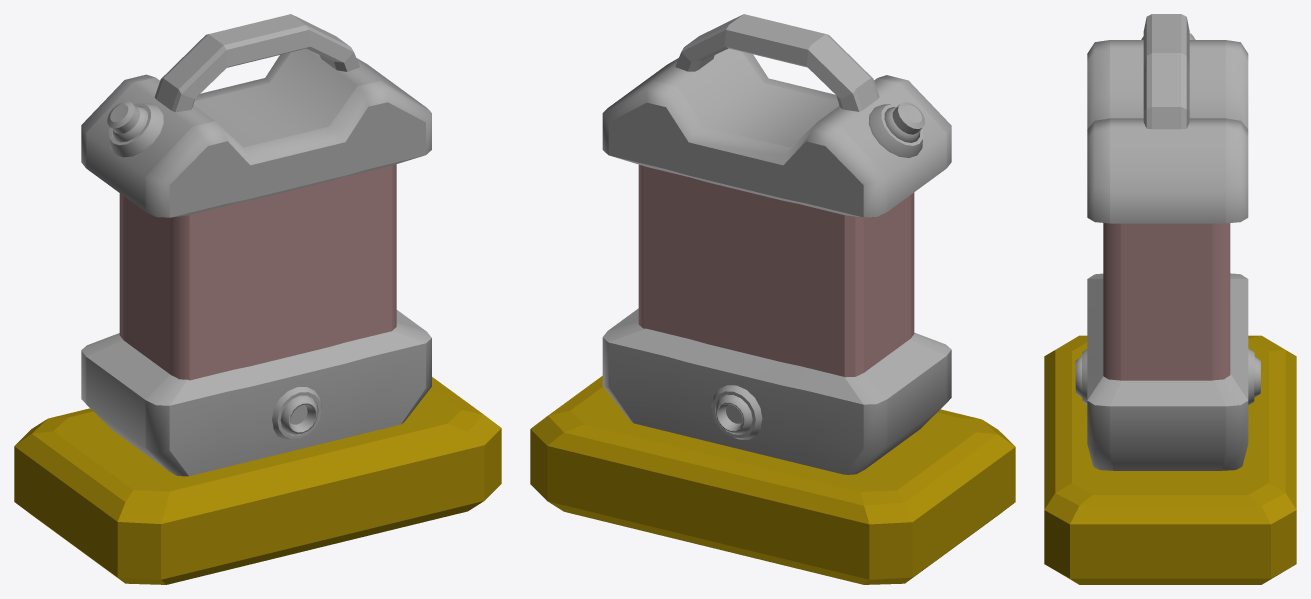
File: Fuel_Base.fbx
3 views of the same model, side by side, from view 1: azimuth 30°, elevation 25°; view 2: azimuth 150°, elevation 25°; view 3: azimuth 270°, elevation 25° (orthographic). The views are drawn at different scales.
Parts seen in each view (by area): view 1: pCube53; view 2: pCube53; view 3: pCube53.
Boxes of the visible parts, x1,y1,x2,y2 form: pCube53: [14, 14, 501, 584]; pCube53: [530, 14, 1015, 584]; pCube53: [1044, 14, 1296, 584].
Bounding box in the file's own units: 274 × 328 × 160.
